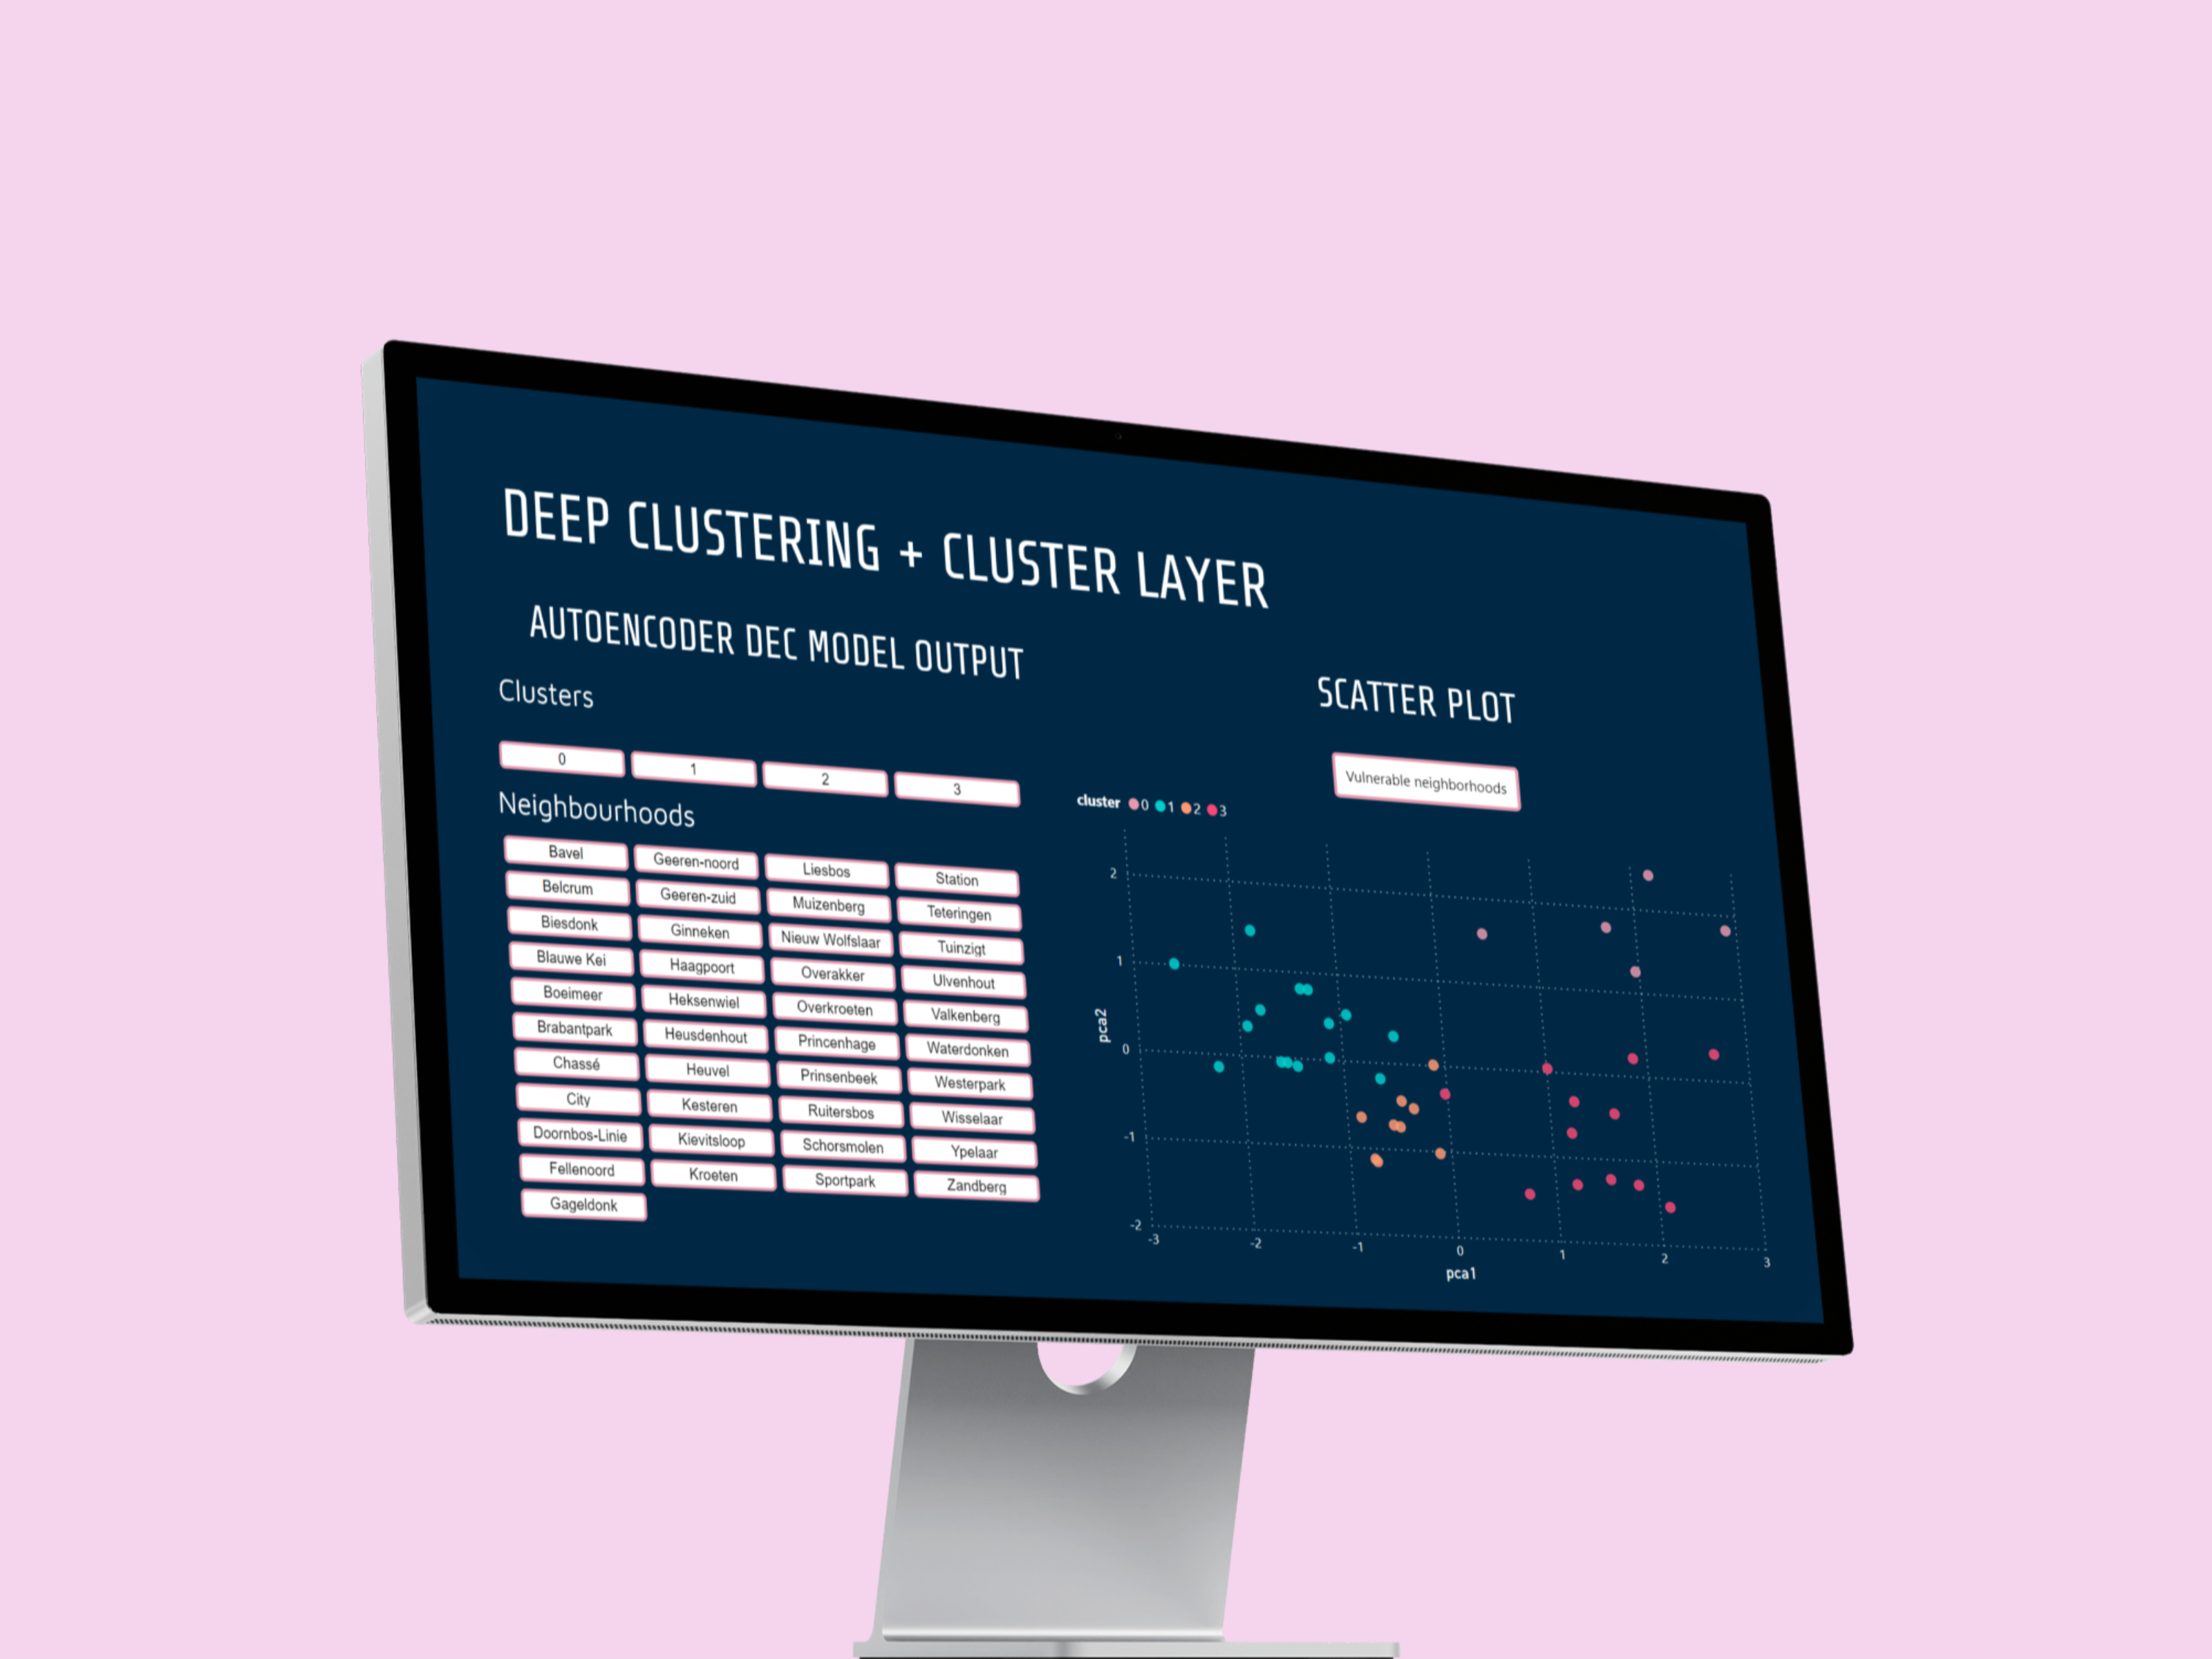

The page's visual inventory and layout, read from the dashboard file:
{"tool":"powerbi","page":{"name":"Page 1","canvas":[1280,720],"ordinal":0},"visuals":[{"type":"ChicletSlicer1448559807354","fields":{"Category":["Sheet1.cluster"]},"box":[22.7,265.1,522.6,45.4],"z":0},{"type":"ChicletSlicer1448559807354","fields":{"Category":["Sheet1.neighborhood_name"]},"box":[22.9,342.5,516.2,346.1],"z":1000},{"type":"scatterChart","title":"Clustering the neighborhoods","fields":{"X":["Sheet1.pca1"],"Y":["Sheet1.pca2"],"Series":["Sheet1.cluster"]},"box":[588,265.4,646.9,430.1],"z":2000},{"type":"actionButton","title":"go back","box":[845.5,226.1,181.8,39.9],"z":5000},{"type":"textbox","box":[22.3,76.5,731.8,72.3],"z":6000},{"type":"textbox","box":[0,237.7,134.5,50],"z":7000},{"type":"textbox","box":[845.9,148.9,189.2,50.1],"z":8000},{"type":"textbox","box":[72.6,158.9,679,50.1],"z":9000},{"type":"textbox","box":[2.8,311.7,203.1,50.1],"z":10000}]}

Visuals, with their boxes on the page's 1280x720 design canvas (x1, y1, x2, y2). These are canvas units, not pixel positions in the 2212x1659 screenshot, which may show the page scaled, cropped or inside an application window:
ChicletSlicer1448559807354 - Sheet1.cluster: bbox(23, 265, 545, 310)
ChicletSlicer1448559807354 - Sheet1.neighborhood_name: bbox(23, 342, 539, 689)
"Clustering the neighborhoods" scatterChart: bbox(588, 265, 1235, 696)
"go back" actionButton: bbox(846, 226, 1027, 266)
textbox: bbox(22, 76, 754, 149)
textbox: bbox(0, 238, 134, 288)
textbox: bbox(846, 149, 1035, 199)
textbox: bbox(73, 159, 752, 209)
textbox: bbox(3, 312, 206, 362)
